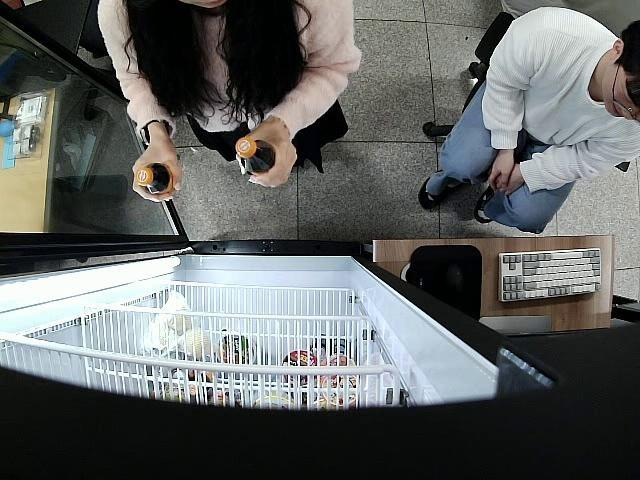17_vita500: (134, 158, 176, 198), (234, 136, 275, 176)
